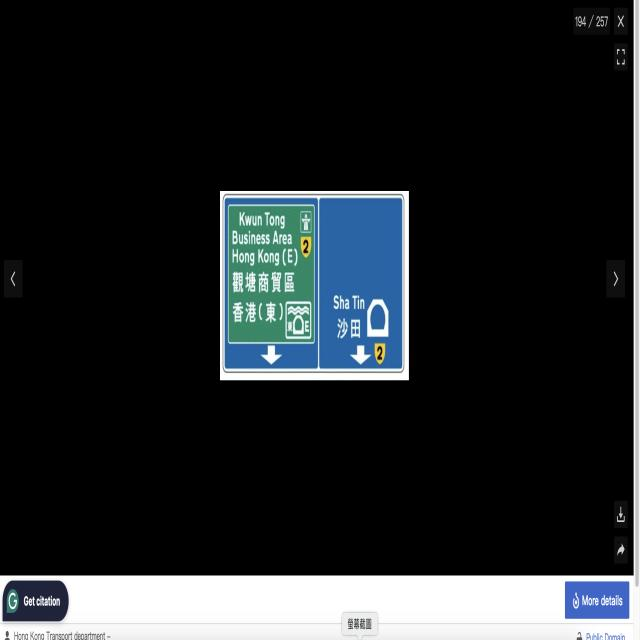Direction-Sign: (225, 198, 402, 367)
